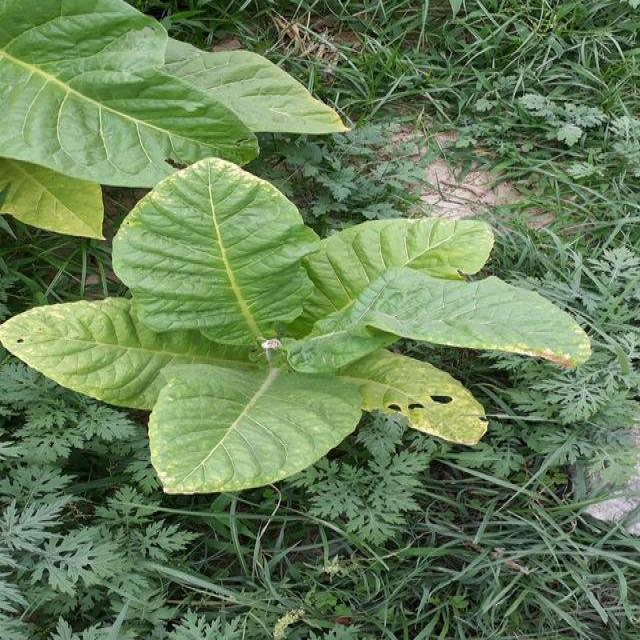crop: (0, 202, 592, 484), (0, 3, 345, 228)
